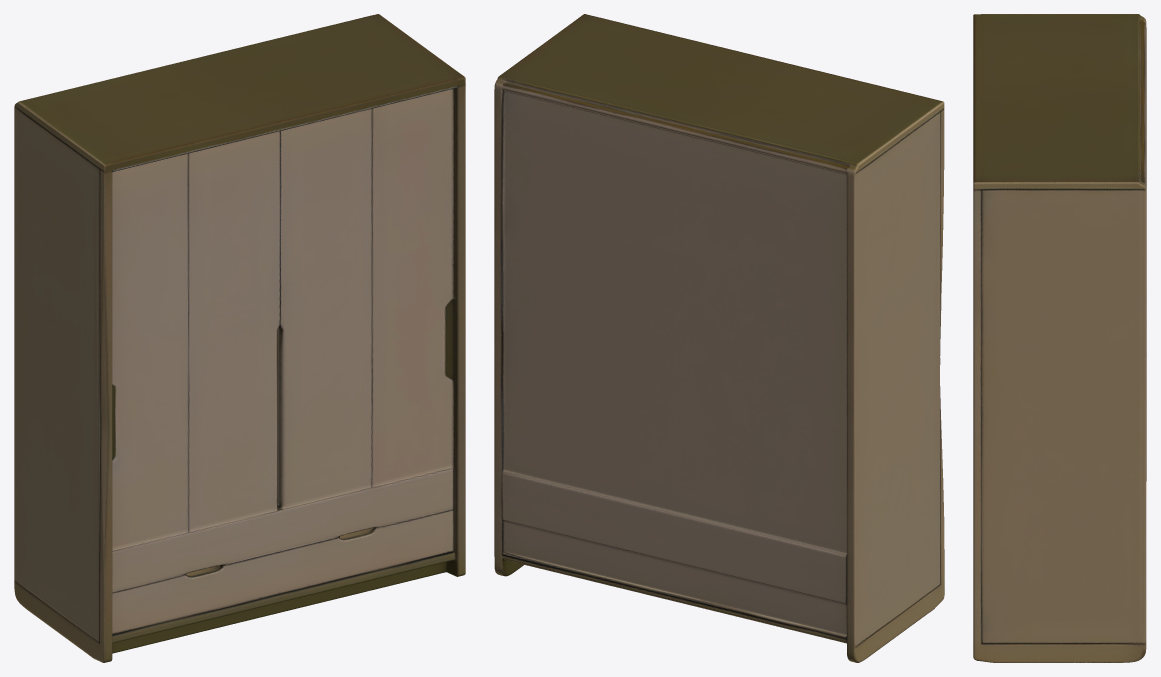
File: desk-drawer.glb
3 renders of one model, left to right at view 1: azimuth 30°, elevation 25°; view 2: azimuth 150°, elevation 25°; view 3: azimuth 270°, elevation 25°, orthographic. The views are drawn at different scales.
Parts seen in each view (by area): view 1: tripo_node_d3cb3c76-2cc5-4601-a2ff-1f79701116c6; view 2: tripo_node_d3cb3c76-2cc5-4601-a2ff-1f79701116c6; view 3: tripo_node_d3cb3c76-2cc5-4601-a2ff-1f79701116c6.
Boxes of the visible parts, <box> form: tripo_node_d3cb3c76-2cc5-4601-a2ff-1f79701116c6: <box>14,14,465,662</box>; tripo_node_d3cb3c76-2cc5-4601-a2ff-1f79701116c6: <box>494,14,944,662</box>; tripo_node_d3cb3c76-2cc5-4601-a2ff-1f79701116c6: <box>973,14,1146,662</box>.
Size of the model in its own units: 0.755 by 1 by 0.3268.
1 material, 1 textured.
